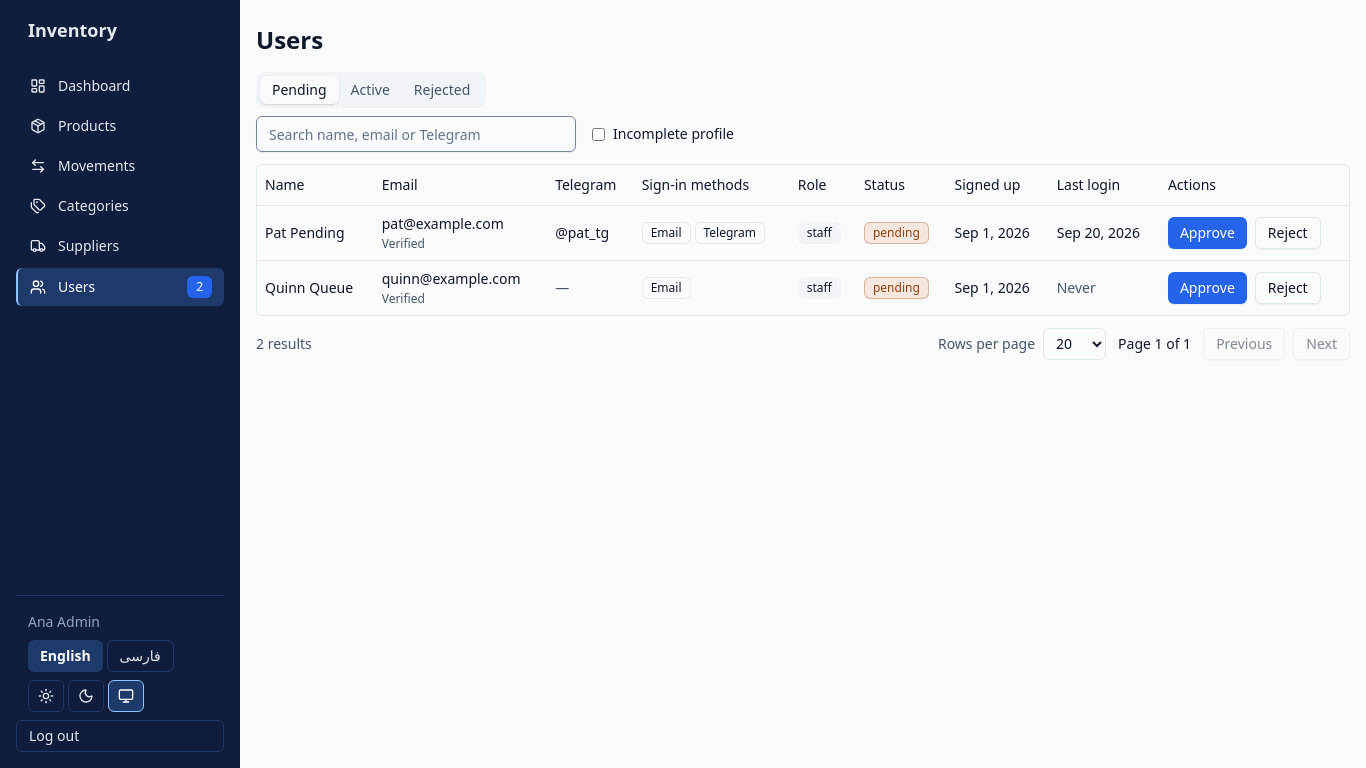
Scenario: UsersPage tabs and table › lists unfinished signups under the Incomplete profile filter, on the Pending tab only
Step 1. Click the checkbox labelled "Incomplete profile" → (598, 134), box [592,128,605,140]
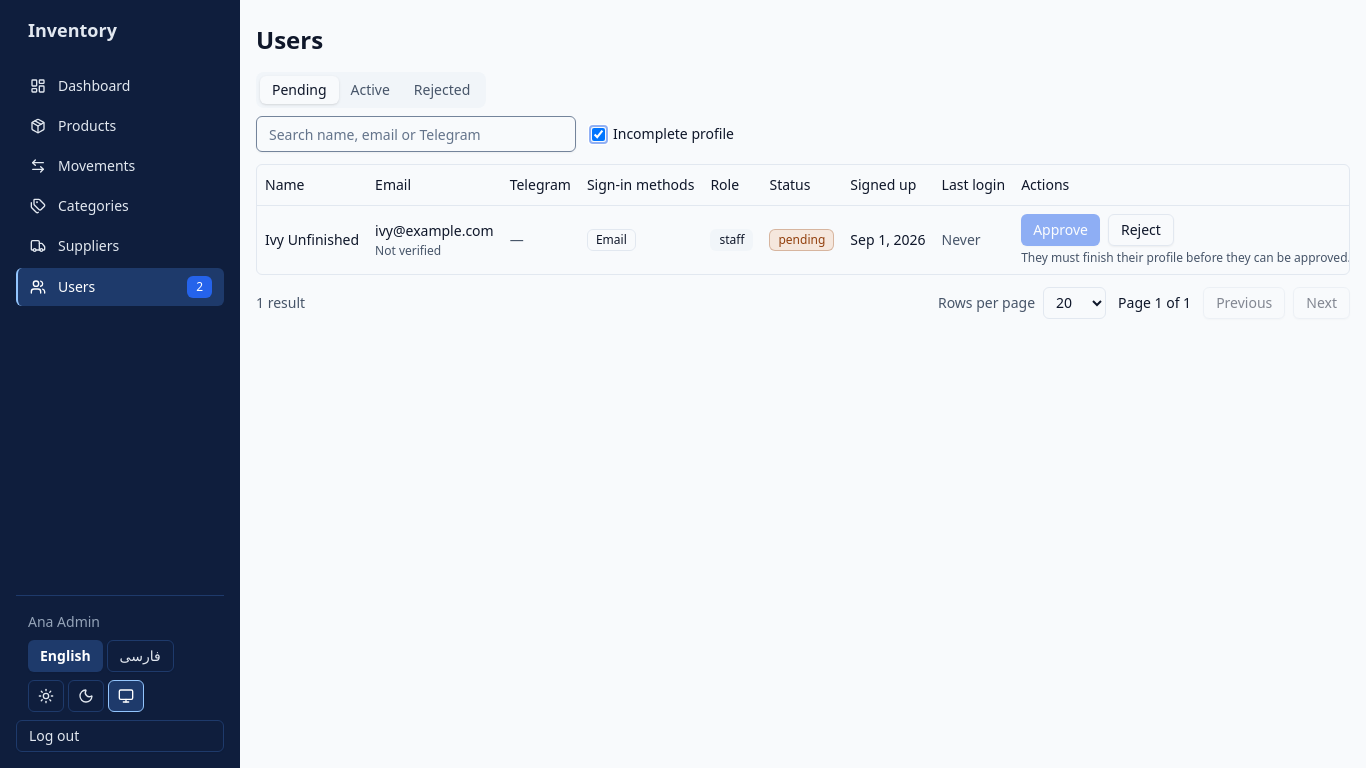
Expected: the row "Ivy Unfinished" is shown, [257,205,1349,274]
Expected: the button "Pat Pending" is gone
Expected: the button "Approve" is disabled, [1021,214,1100,246]
Step 2. Click the tab "Active" → (370, 90), box [338,76,402,104]
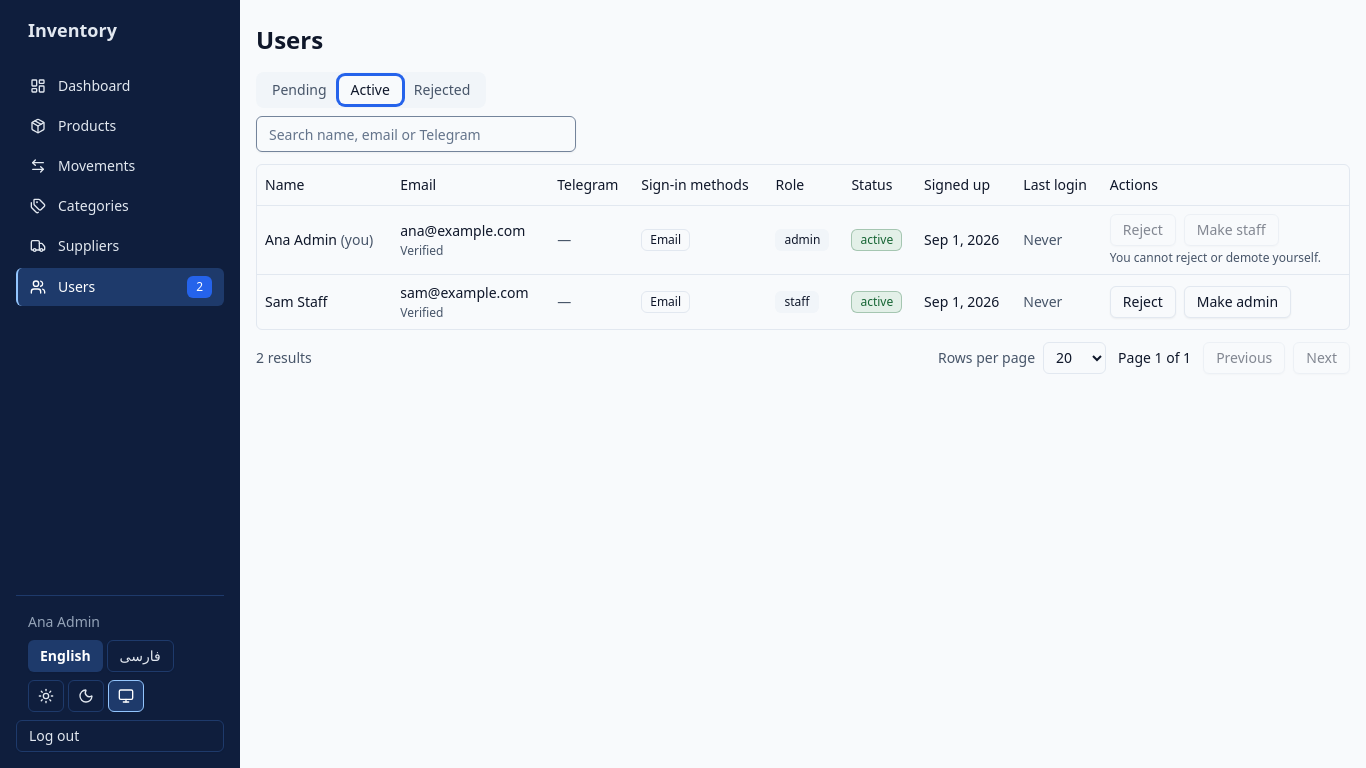
Expected: the label "Incomplete profile" is gone
